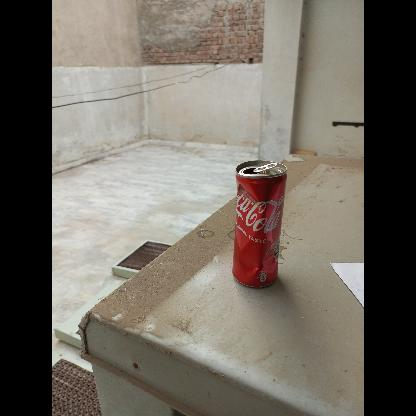Dent_Can: (237, 179, 283, 280), (237, 183, 244, 201)
Lid_Open: (243, 160, 277, 176)
Tin_Can: (228, 159, 288, 291)
